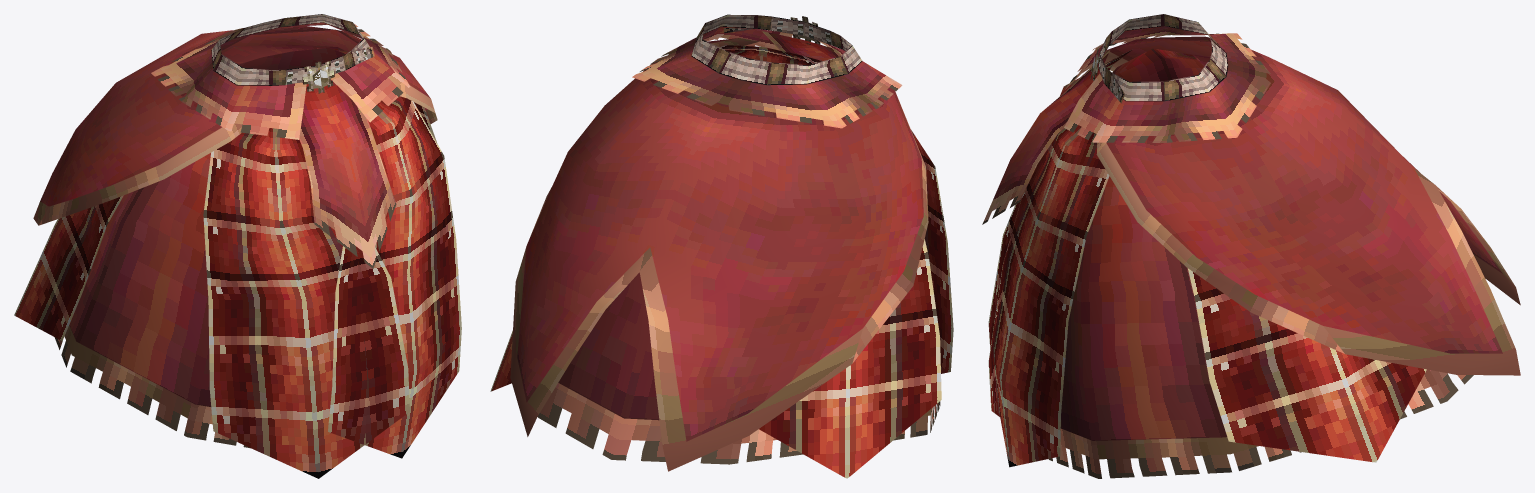
File: f_waist274.obj
3 renders of one model, left to right at view 1: azimuth 30°, elevation 25°; view 2: azimuth 150°, elevation 25°; view 3: azimuth 270°, elevation 25°, orthographic. The views are drawn at different scales.
Visible parts, largest first — view 1: mesh00; view 2: mesh00; view 3: mesh00.
Part boxes in pixels (bbox=[...]): mesh00: bbox=[14, 14, 461, 478]; mesh00: bbox=[490, 14, 953, 478]; mesh00: bbox=[982, 14, 1520, 478].
Bounding box in the file's own units: 90.31 × 83.9 × 103.
Materials: 2 (2 with a texture image).
